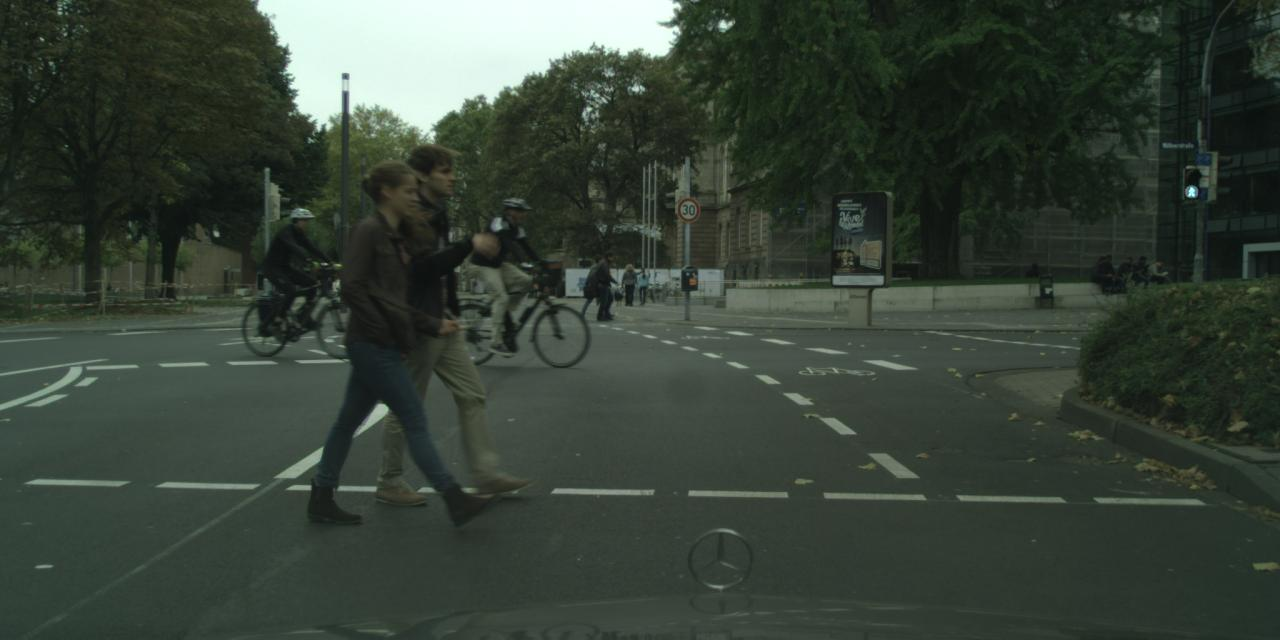ped: (320, 161, 469, 525), (367, 142, 512, 497), (480, 197, 538, 337), (271, 207, 320, 329), (592, 250, 620, 320), (584, 254, 610, 318), (621, 264, 637, 305), (634, 267, 650, 305), (325, 278, 339, 298), (530, 273, 538, 288), (471, 279, 476, 294)
